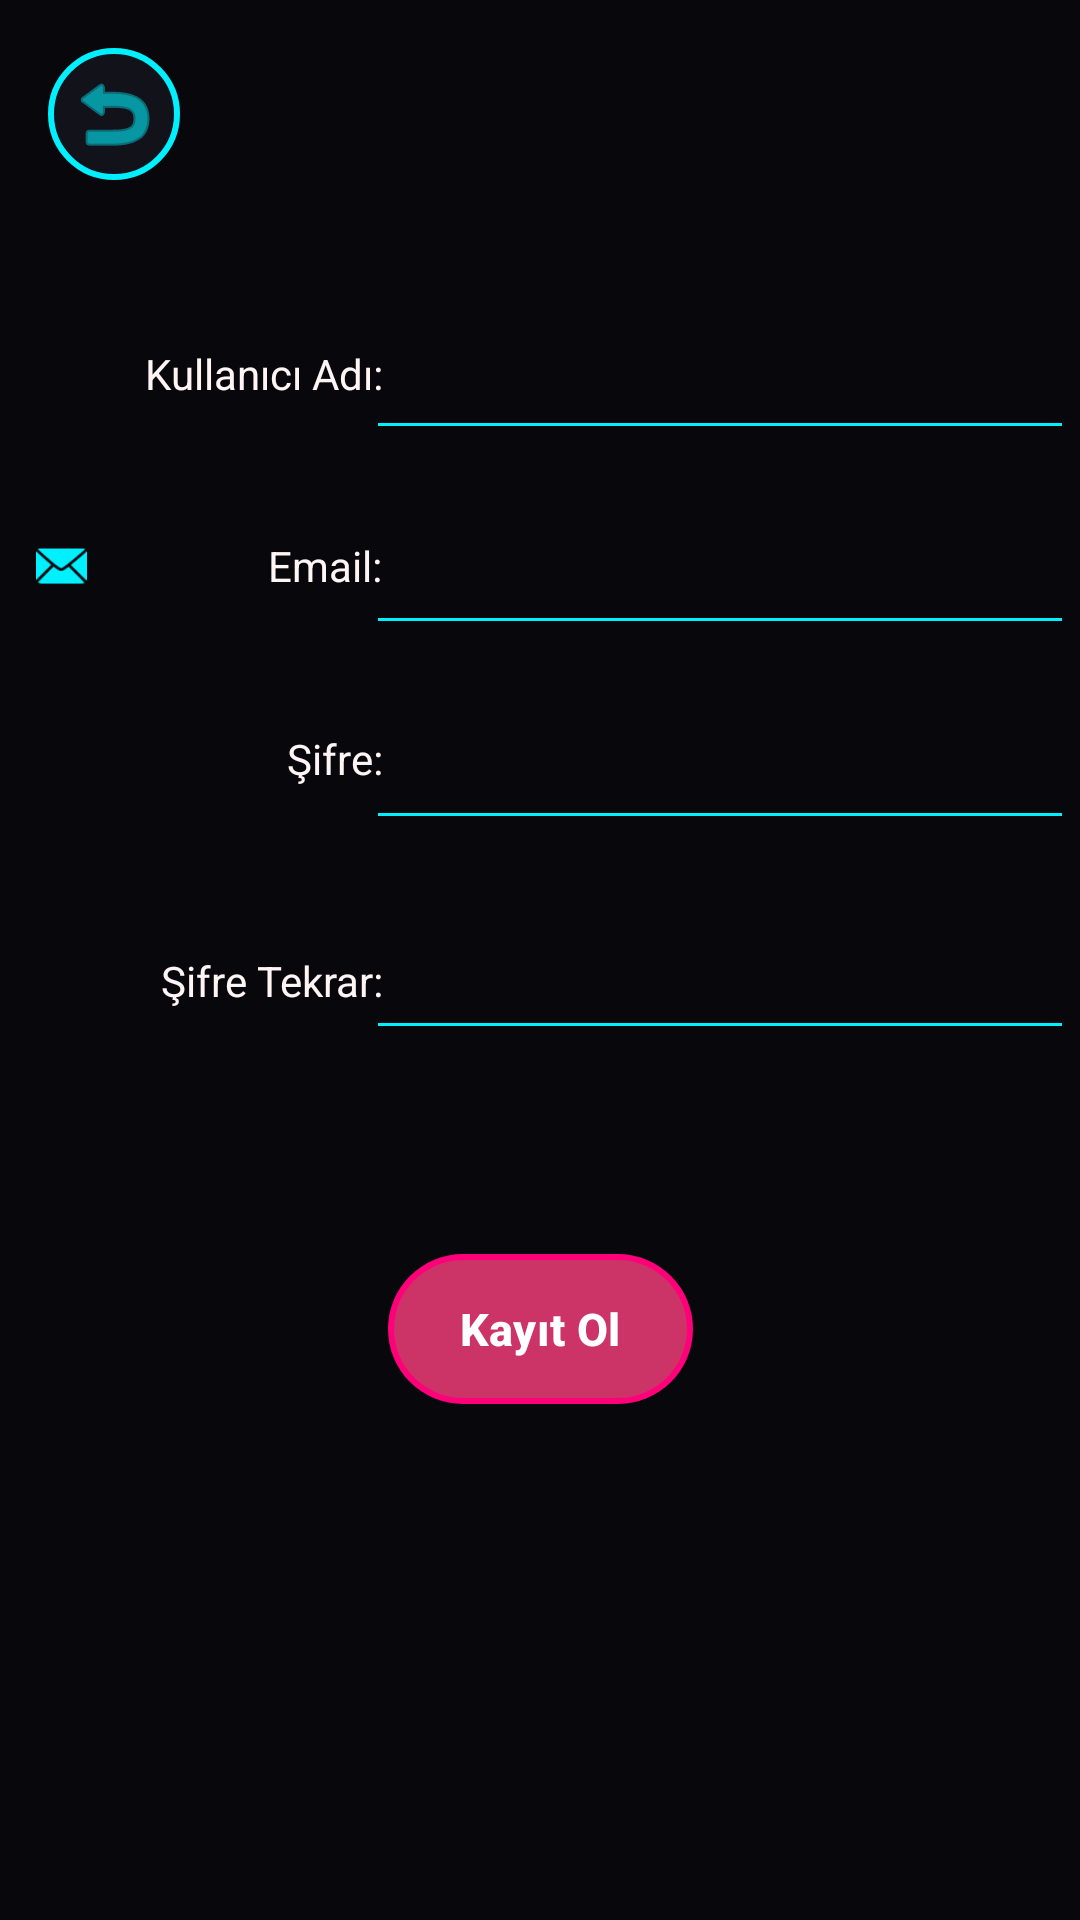

Named icons in this screenshot (1080x1920) and their bounding boxes, (x1, y1, x2, y2):
Geri Dön: (48, 48, 180, 180)
